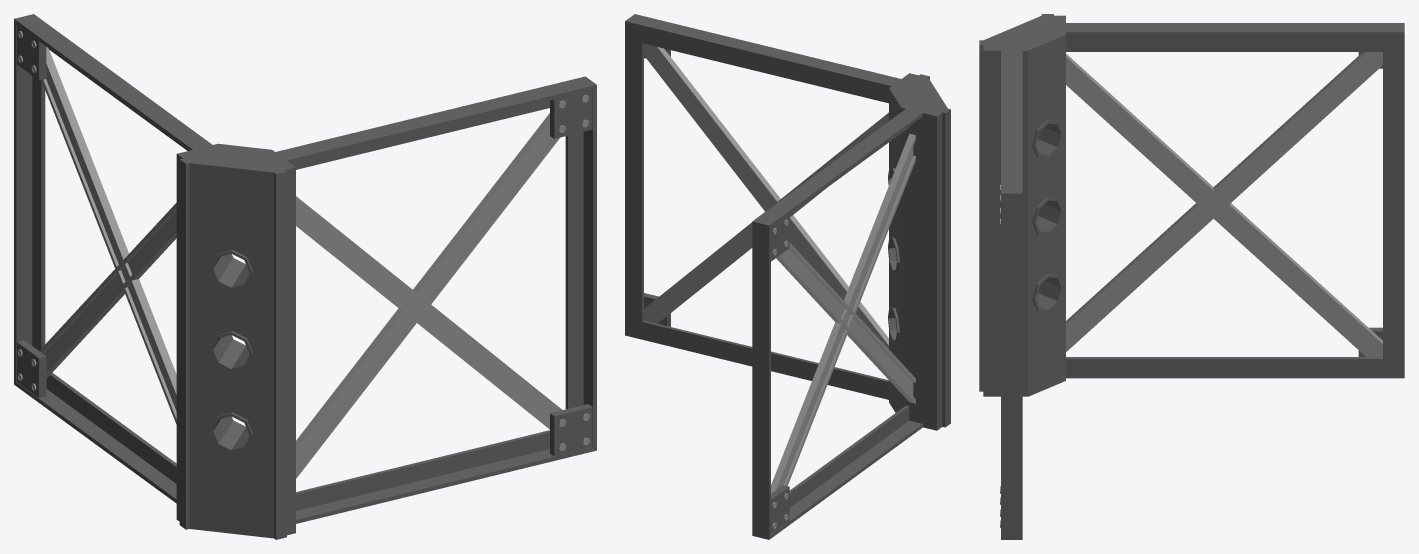
The model's file is Wall_29_B_Corner.FBX.
The picture shows the model from 3 angles, left to right: view 1: azimuth 30°, elevation 25°; view 2: azimuth 150°, elevation 25°; view 3: azimuth 270°, elevation 25°; orthographic projection. The views are drawn at different scales.
Visible parts, largest first — view 1: Wall_29_B_Corner_LOD0; view 2: Wall_29_B_Corner_LOD0; view 3: Wall_29_B_Corner_LOD0.
Part boxes in pixels (<box>): Wall_29_B_Corner_LOD0: <box>14,14,596,539</box>; Wall_29_B_Corner_LOD0: <box>625,14,950,539</box>; Wall_29_B_Corner_LOD0: <box>979,14,1404,539</box>.
Size of what is drawn, in the model's own units: 200 by 180 by 200.
